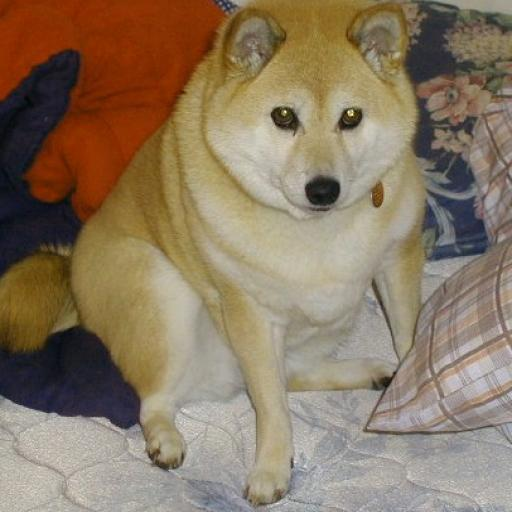dog_face: (221, 7, 430, 213)
